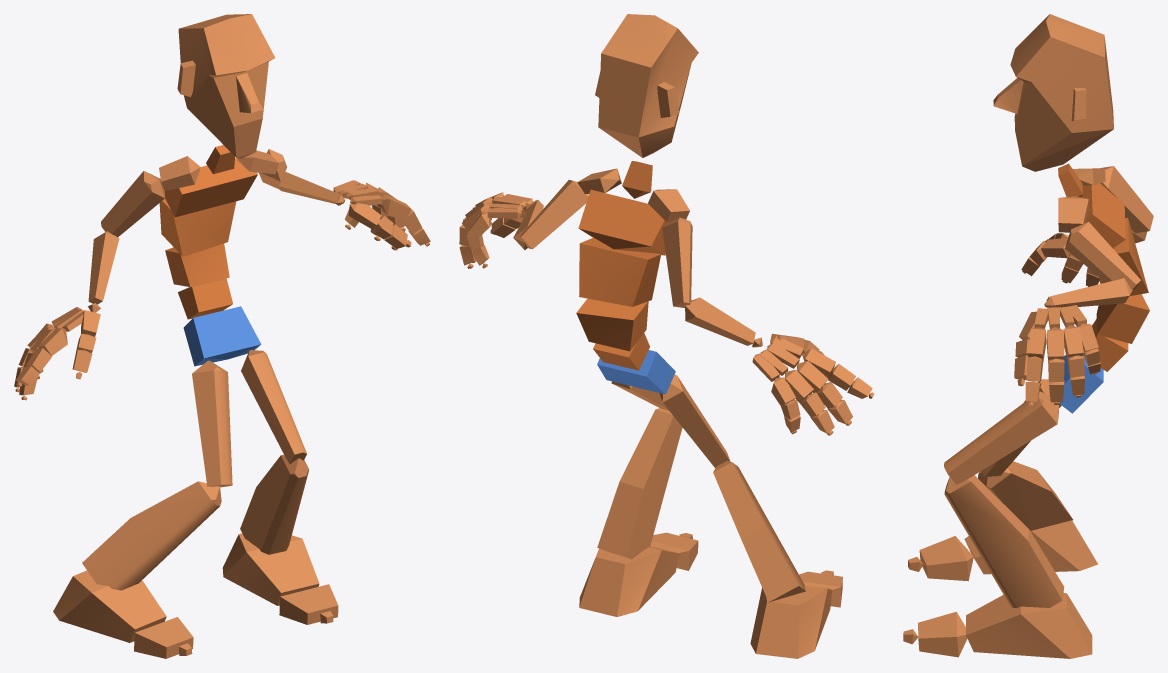
File: prueba293.obj
3 renders of one model, left to right at view 1: azimuth 30°, elevation 25°; view 2: azimuth 150°, elevation 25°; view 3: azimuth 270°, elevation 25°, orthographic. The views are drawn at different scales.
Visible parts, largest first — view 1: BOPED_Head, BOPED_R_leg, BOPED_R_foot, BOPED_L_leg, BOPED_R_foot01, BOPED_R_legup, Bone01, BOPED_L_legup, Bone04, Bone05, BOPED_R_arm_upper, Bone03 (+8 smaller); view 2: BOPED_Head, BOPED_L_leg, BOPED_R_leg, BOPED_R_foot01, BOPED_R_foot, Bone04, Bone05, Bone03, BOPED_R_legup, BOPED_R_arm_upper, BOPED_L_arm_upper, Bone01 (+7 smaller); view 3: BOPED_Head, BOPED_L_leg, BOPED_R_foot01, BOPED_L_legup, BOPED_R_leg, BOPED_R_foot, BOPED_L_arm_upper, Bone05, Bone03, BOPED_R_foot_toe01, BOPED_R_foot_toe04, BOPED_L_arm_fore (+15 smaller).
Part boxes in pixels (x1=…): BOPED_Head: x1=177, y1=14, x2=275, y2=158; BOPED_R_leg: x1=82, y1=481, x2=221, y2=590; BOPED_R_foot: x1=53, y1=570, x2=166, y2=642; BOPED_L_leg: x1=240, y1=454, x2=309, y2=554; BOPED_R_foot01: x1=222, y1=533, x2=319, y2=605; BOPED_R_legup: x1=192, y1=360, x2=232, y2=487; Bone01: x1=183, y1=306, x2=261, y2=366; BOPED_L_legup: x1=241, y1=350, x2=306, y2=464; Bone04: x1=159, y1=198, x2=236, y2=256; Bone05: x1=165, y1=157, x2=257, y2=217; BOPED_R_arm_upper: x1=101, y1=171, x2=164, y2=236; Bone03: x1=165, y1=243, x2=229, y2=287; BOPED_Head: x1=595, y1=14, x2=698, y2=157; BOPED_L_leg: x1=597, y1=408, x2=682, y2=559; BOPED_R_leg: x1=713, y1=460, x2=805, y2=602; BOPED_R_foot01: x1=579, y1=546, x2=679, y2=616; BOPED_R_foot: x1=750, y1=585, x2=832, y2=658; Bone04: x1=579, y1=238, x2=660, y2=306; Bone05: x1=578, y1=189, x2=671, y2=255; Bone03: x1=576, y1=298, x2=648, y2=351; BOPED_R_legup: x1=659, y1=374, x2=729, y2=468; BOPED_R_arm_upper: x1=662, y1=217, x2=692, y2=307; BOPED_L_arm_upper: x1=519, y1=180, x2=588, y2=249; Bone01: x1=597, y1=350, x2=675, y2=394; BOPED_Head: x1=993, y1=14, x2=1113, y2=171; BOPED_L_leg: x1=944, y1=475, x2=1064, y2=607; BOPED_R_foot01: x1=966, y1=593, x2=1092, y2=658; BOPED_L_legup: x1=944, y1=391, x2=1059, y2=484; BOPED_R_leg: x1=978, y1=461, x2=1072, y2=531; BOPED_R_foot: x1=964, y1=520, x2=1097, y2=574; BOPED_L_arm_upper: x1=1065, y1=222, x2=1140, y2=291; Bone05: x1=1081, y1=183, x2=1125, y2=248; Bone03: x1=1096, y1=294, x2=1149, y2=343; BOPED_R_foot_toe01: x1=919, y1=536, x2=973, y2=581; BOPED_R_foot_toe04: x1=918, y1=611, x2=967, y2=657; BOPED_L_arm_fore: x1=1046, y1=278, x2=1132, y2=307.
Size of the model in its own units: 130 by 175 by 65.33.
